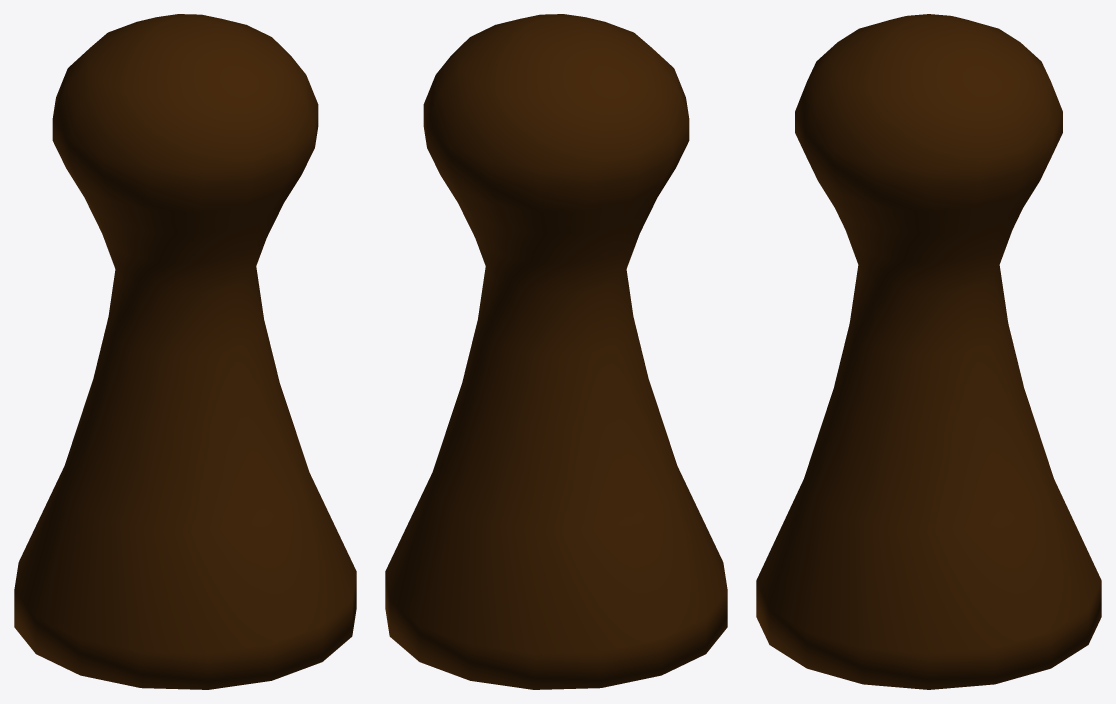
File: dark_orange.glb
3 views of the same model, side by side, from view 1: azimuth 30°, elevation 25°; view 2: azimuth 150°, elevation 25°; view 3: azimuth 270°, elevation 25° (orthographic).
Parts seen in each view (by area): view 1: YellowGameFigure2; view 2: YellowGameFigure2; view 3: YellowGameFigure2.
Boxes of the visible parts, <box> form: YellowGameFigure2: <box>14,14,356,689</box>; YellowGameFigure2: <box>385,14,727,689</box>; YellowGameFigure2: <box>756,14,1101,689</box>.
Bounding box in the file's own units: 2.27 × 4.25 × 2.27.
